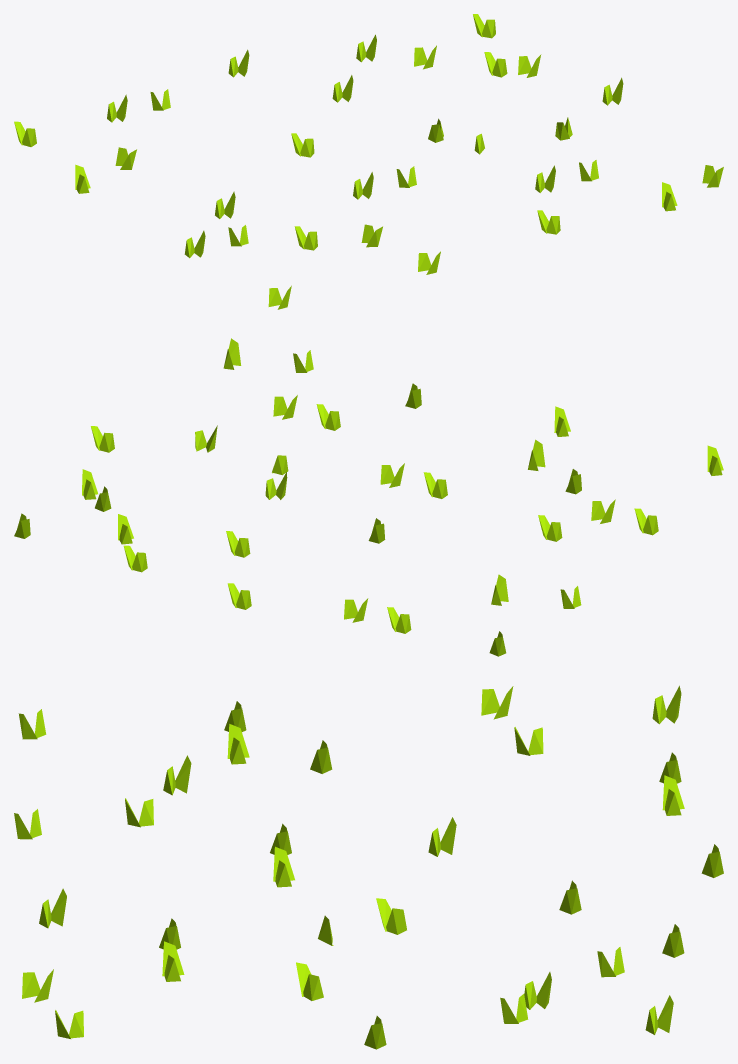
File: Grass_Patch.fbx
3 views of the same model, one above another, from view 1: azimuth 30°, elevation 25°; view 2: azimuth 150°, elevation 25°; view 3: azimuth 270°, elevation 25° (orthographic). The views are drawn at different scales.
Visible parts, largest first — view 1: Grass_Patch; view 2: Grass_Patch; view 3: Grass_Patch.
Part boxes in pixels (x1,y1,x2,y2): Grass_Patch: (14, 14, 723, 309); Grass_Patch: (14, 338, 723, 656); Grass_Patch: (14, 685, 723, 1049).
Bounding box in the file's own units: 15.44 × 0.6772 × 13.55.
